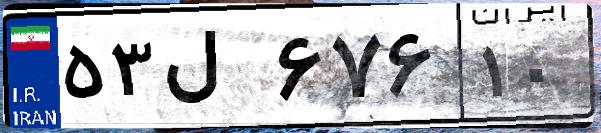0: (525, 38, 570, 115)
1: (475, 38, 525, 113)
3: (110, 28, 158, 98)
5: (57, 26, 110, 100)
6: (270, 28, 330, 110), (385, 28, 445, 110)
7: (330, 28, 385, 110)
ل: (158, 20, 270, 120)
